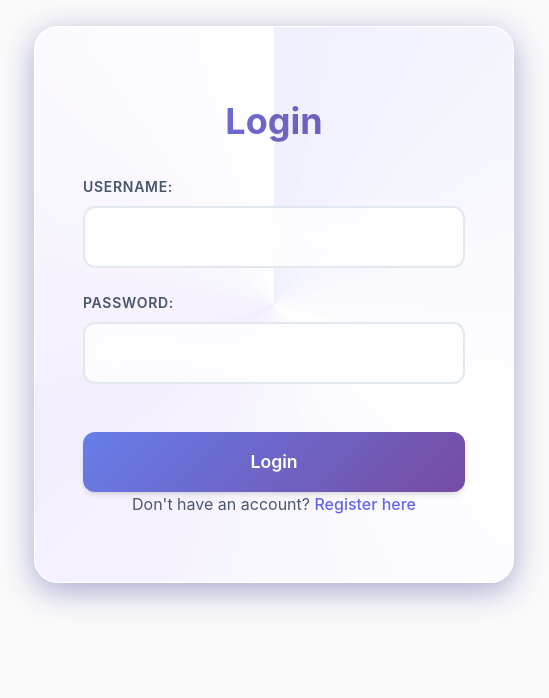
Test: Auth Component › handles failed login
Type "wronguser" into the field labelled "Username:" at (274, 237), box [83,206,465,268]
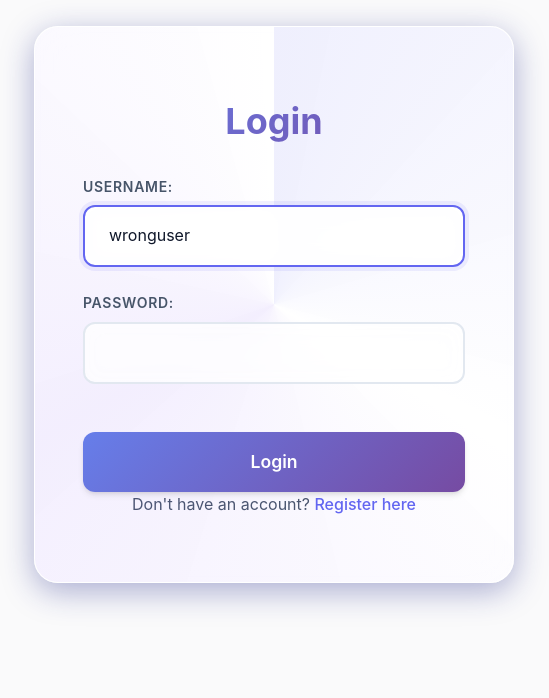
Type "wrongpass" into the password field labelled "Password:" at (274, 353), box [83,322,465,384]
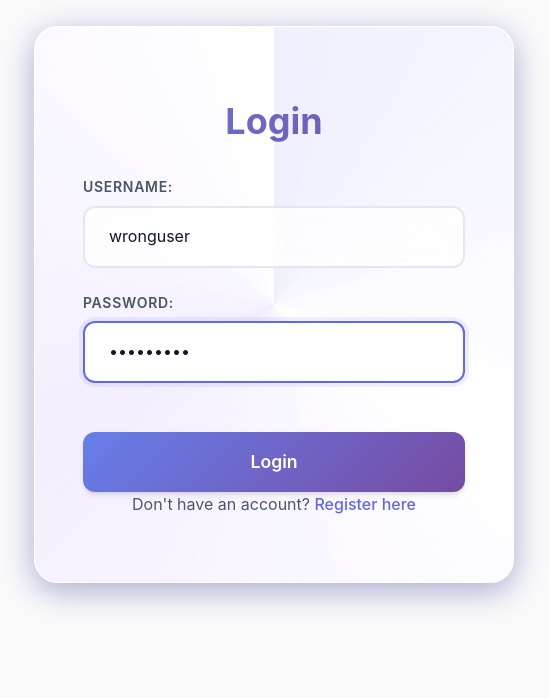
Click the button "Login" at (274, 462), box [83,432,465,492]
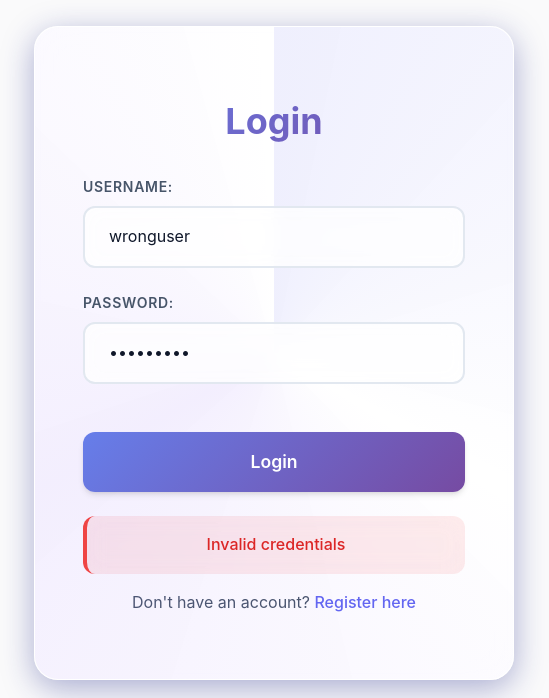
Expected: the text "Invalid credentials" is shown, [83,516,465,574]
